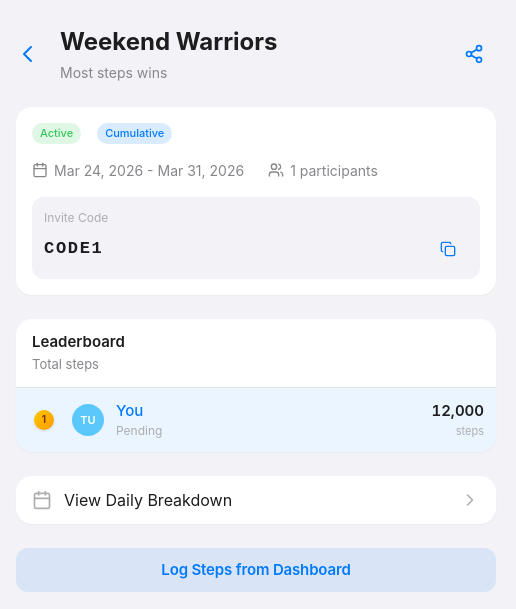
Test: ChallengeDetail › falls back to copy when share fails
The width and height of the screenshot is (516, 609).
Expected: the text "Invite Code" is shown, [44,210,108,224]
What coordinates should you click on to do the following:
click the button named "share challenge"
I would click on:
 (474, 54)
Its box is [452,36,496,72].
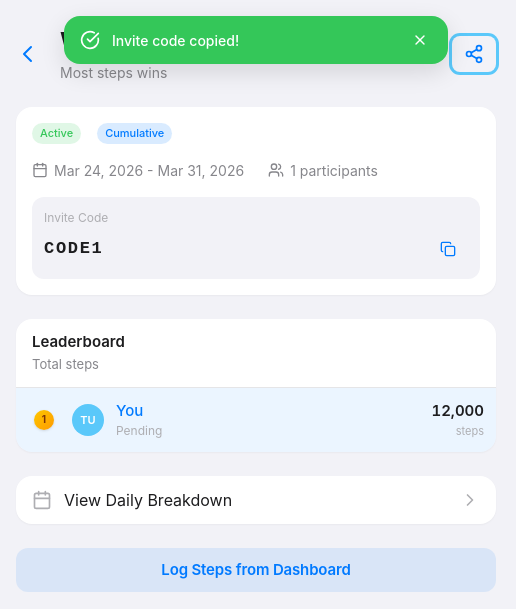
Result: the text "Invite code copied!" is shown at [112,32,239,48]
